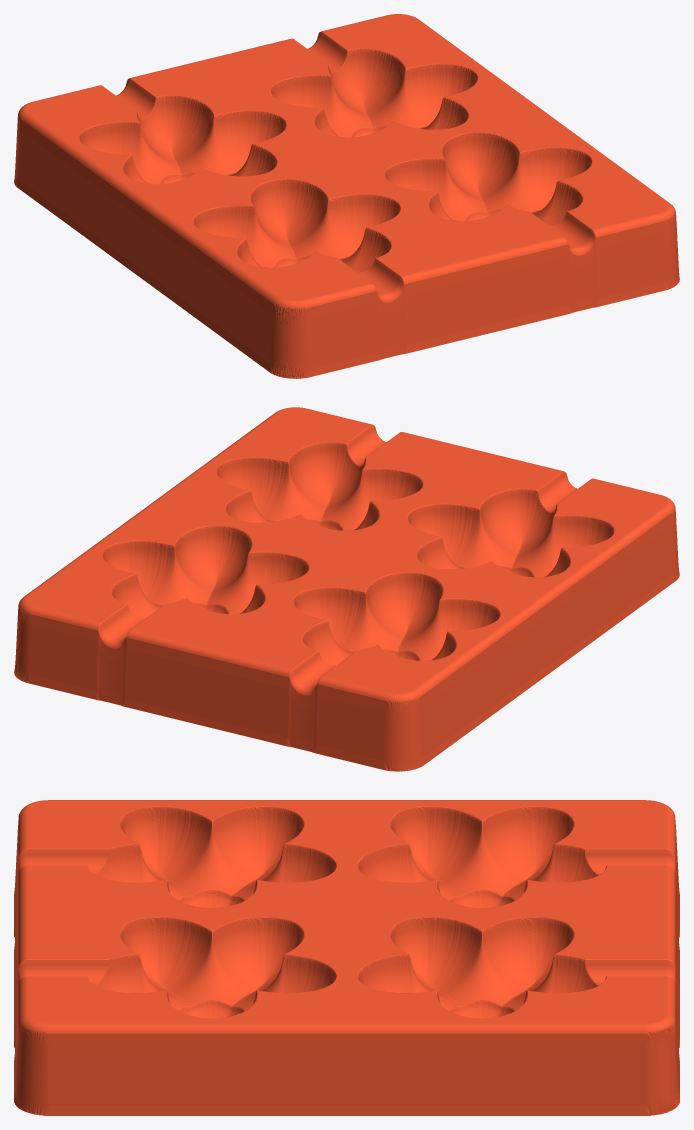
The model's file is mold.glb.
3 renders of one model, top to bottom at view 1: azimuth 30°, elevation 25°; view 2: azimuth 150°, elevation 25°; view 3: azimuth 270°, elevation 25°, orthographic. The views are drawn at different scales.
Visible parts, largest first — view 1: geometry_0; view 2: geometry_0; view 3: geometry_0.
Part boxes in pixels (x1,y1,x2,y2): geometry_0: (14, 14, 679, 378); geometry_0: (14, 407, 679, 771); geometry_0: (14, 800, 679, 1115).
Bounding box in the file's own units: 0.1424 × 0.0245 × 0.171.
